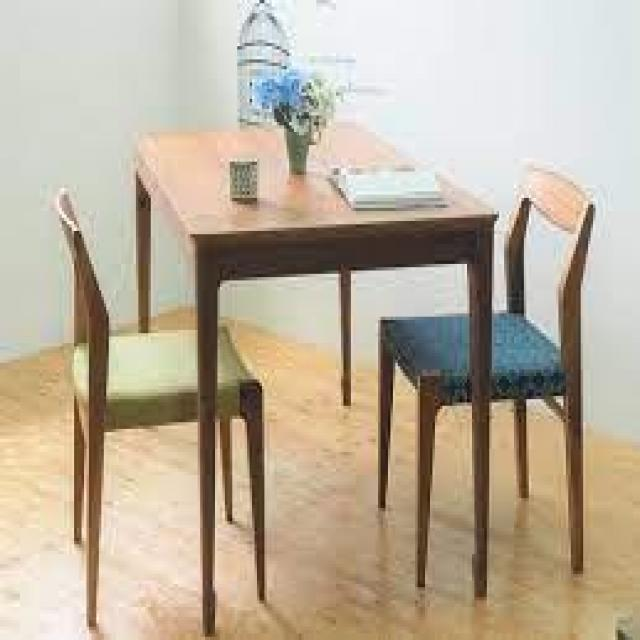table: (115, 70, 508, 402)
